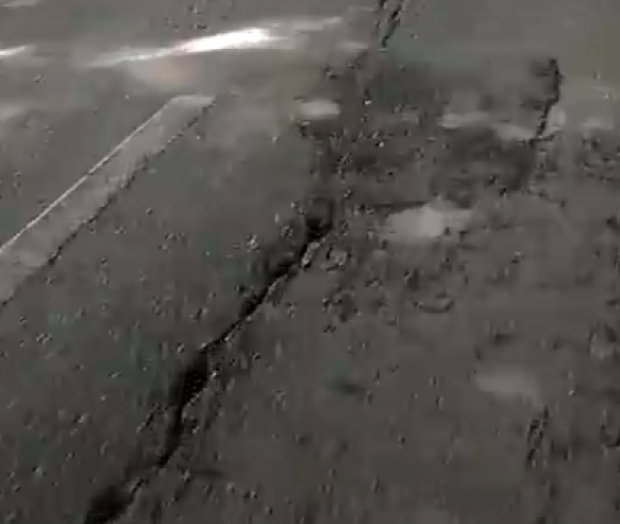Retak Melintang: (74, 12, 460, 524)
